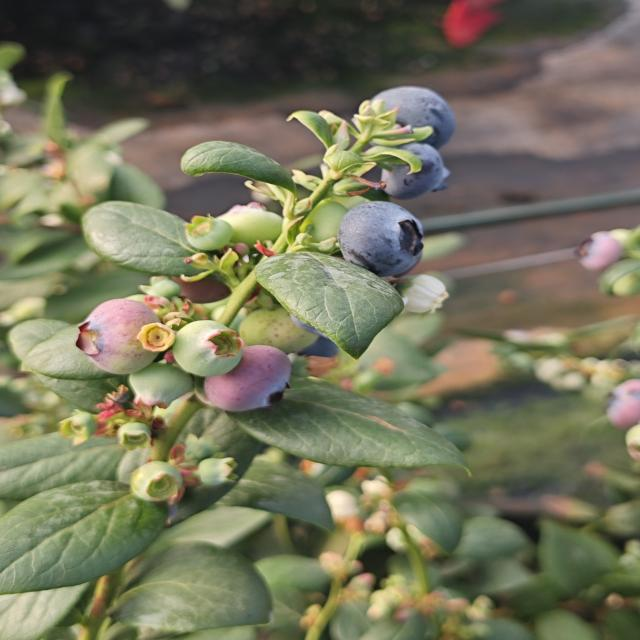ripe: (335, 195, 436, 283), (352, 81, 461, 152), (366, 136, 453, 200), (286, 302, 348, 370)
